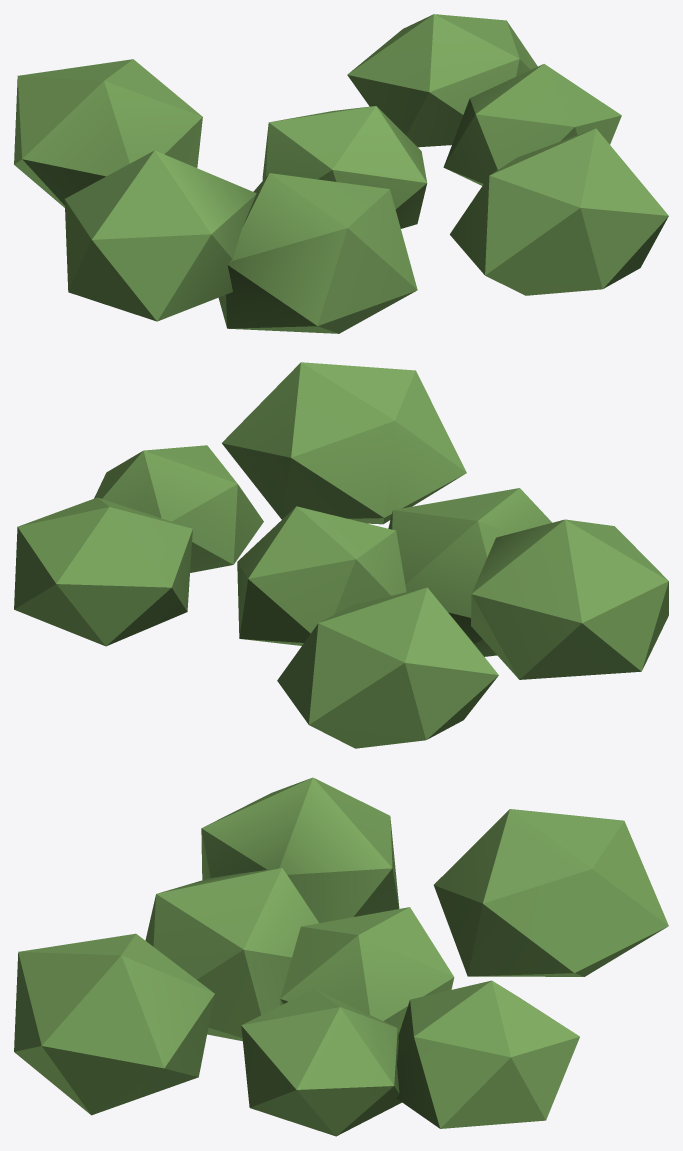
The model's file is forest_clump_broad.glb.
The picture shows the model from 3 angles, top to bottom: view 1: azimuth 30°, elevation 25°; view 2: azimuth 150°, elevation 25°; view 3: azimuth 270°, elevation 25°; orthographic projection. The views are drawn at different scales.
Bounding box in the file's own units: 23.13 × 7.29 × 22.68.
